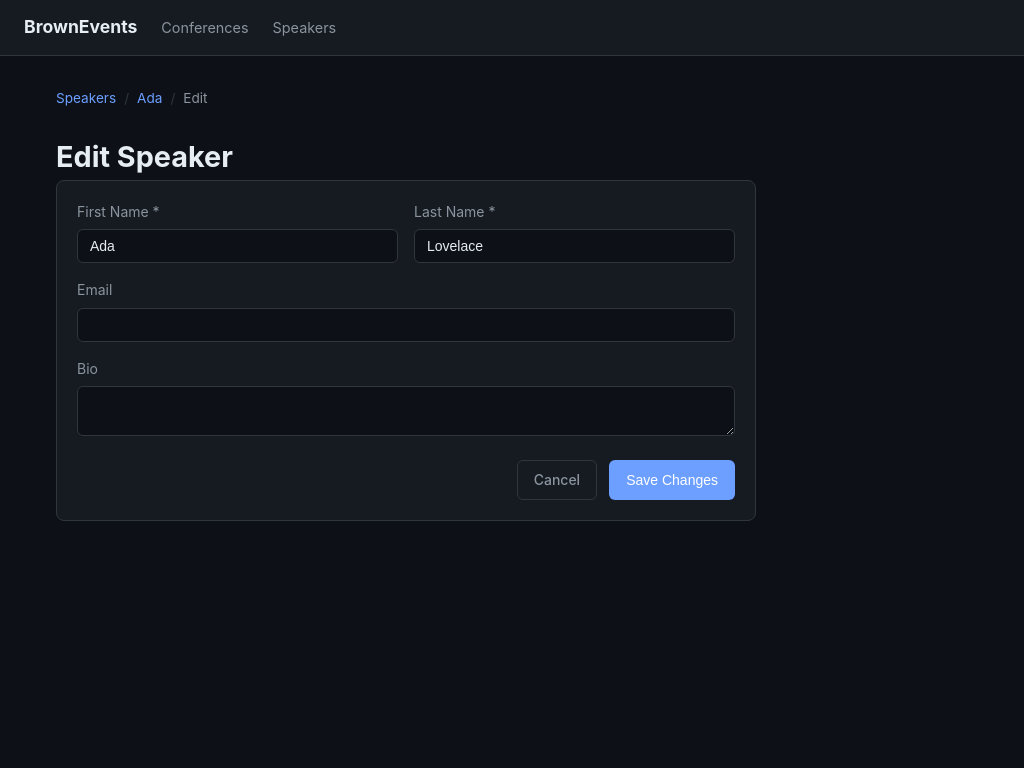
Test case: blocks submission and shows an error when last name is cleared
This screenshot has width=1024, height=768.
Expected: the field showing "Ada" is shown, [77,229,398,263]
Step 1. Clear the field labelled "Last Name *" → x=574, y=246, box [414,229,735,263]
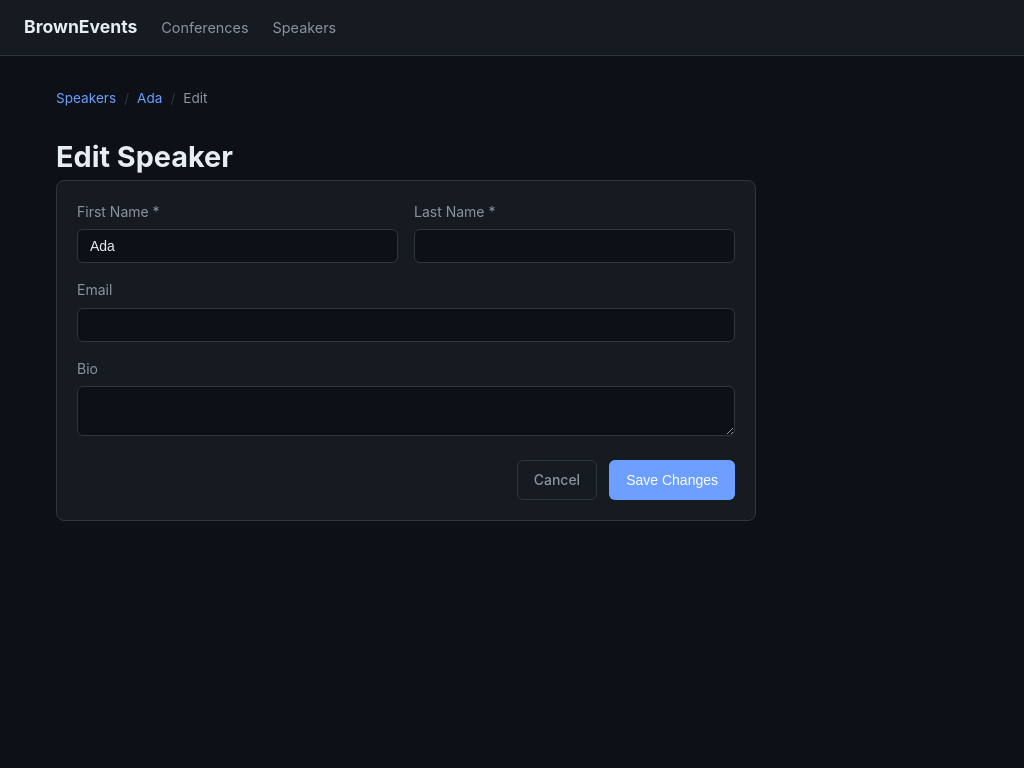
Step 2. Click the button "Save Changes" → x=672, y=480, box [609,460,735,500]
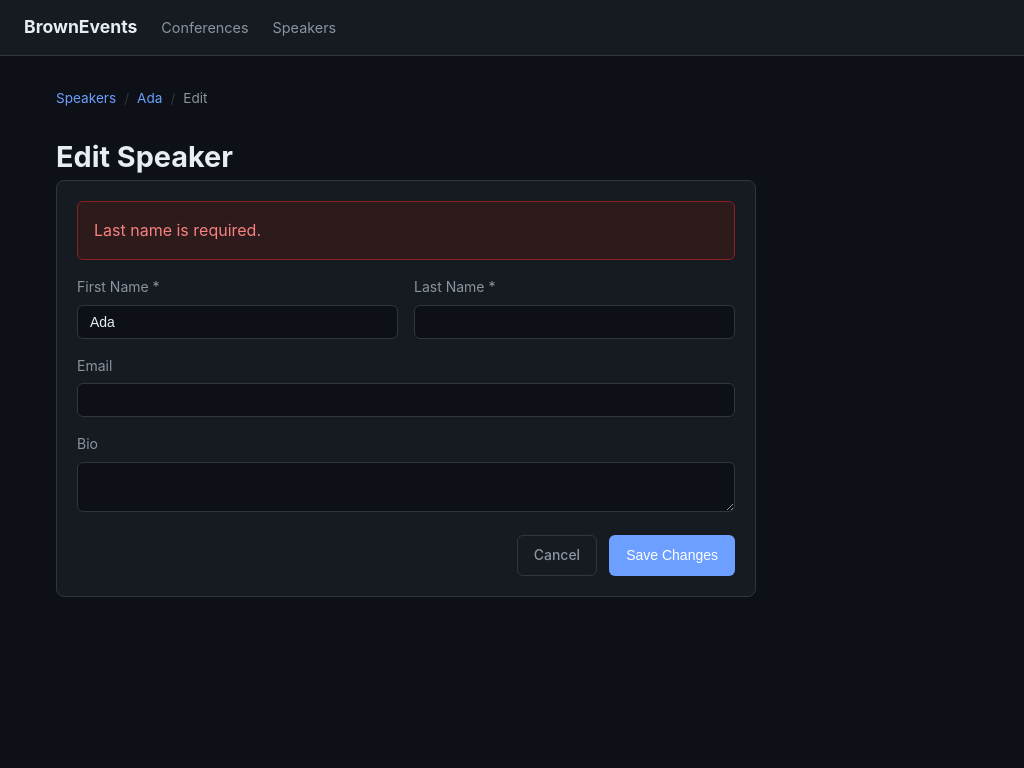
Result: the text "Last name is required." is shown at [94,220,261,240]
